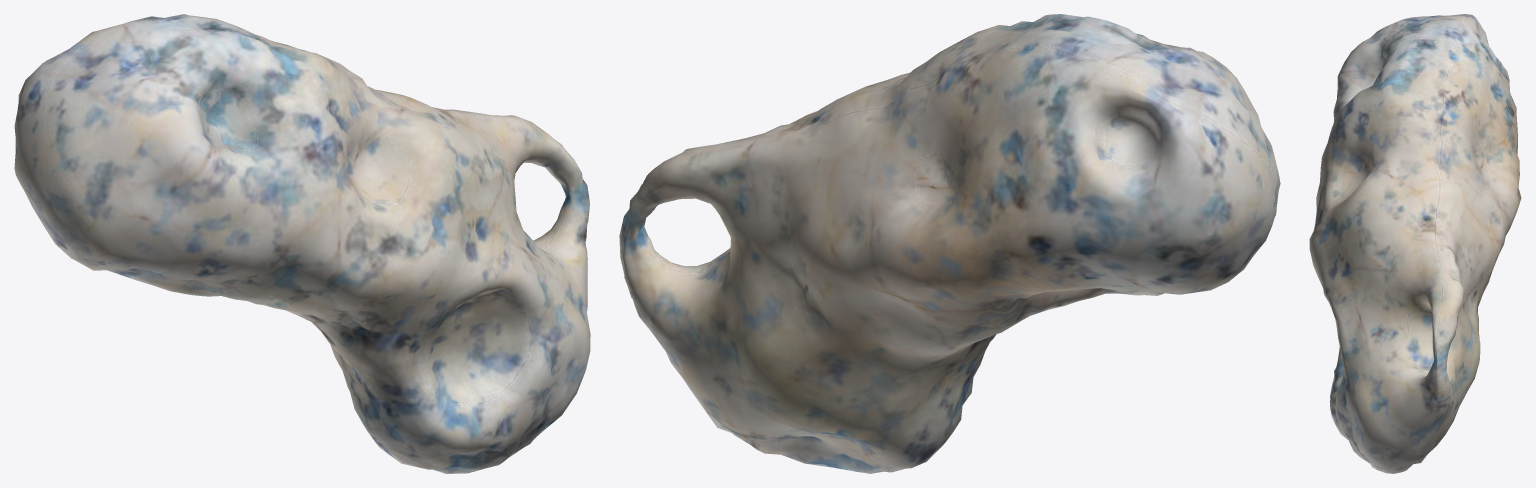
Rendered from asteroid.glb.
3 views of the same model, side by side, from view 1: azimuth 30°, elevation 25°; view 2: azimuth 150°, elevation 25°; view 3: azimuth 270°, elevation 25° (orthographic). The views are drawn at different scales.
Parts seen in each view (by area): view 1: Group57342.002; view 2: Group57342.002; view 3: Group57342.002.
Part boxes in pixels (bbox=[...]): Group57342.002: bbox=[14, 14, 590, 473]; Group57342.002: bbox=[619, 14, 1280, 473]; Group57342.002: bbox=[1309, 14, 1521, 473].
Bounding box in the file's own units: 2.48 × 2 × 1.13.
Materials: 1 (1 with a texture image).
